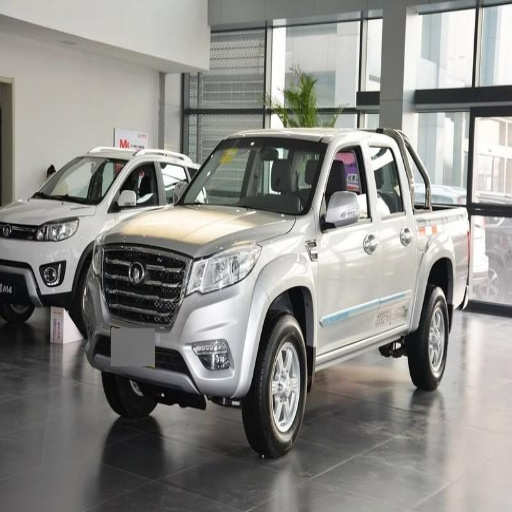front_bumper: (3, 223, 268, 392)
front_glass: (111, 142, 326, 215), (34, 158, 125, 205)
front_left_door: (318, 140, 381, 349)
trunk: (420, 211, 474, 309)
